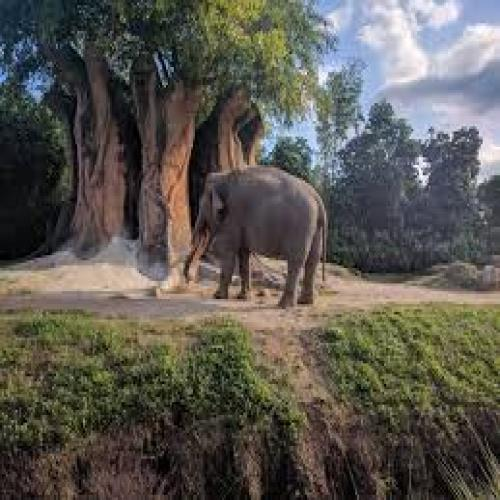asian_elephant-endangered: (182, 164, 326, 303)
